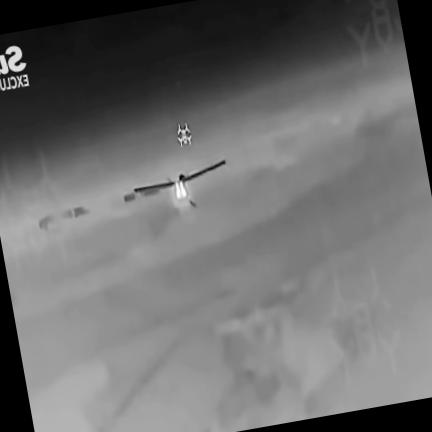Shahed: (123, 160, 225, 207)
